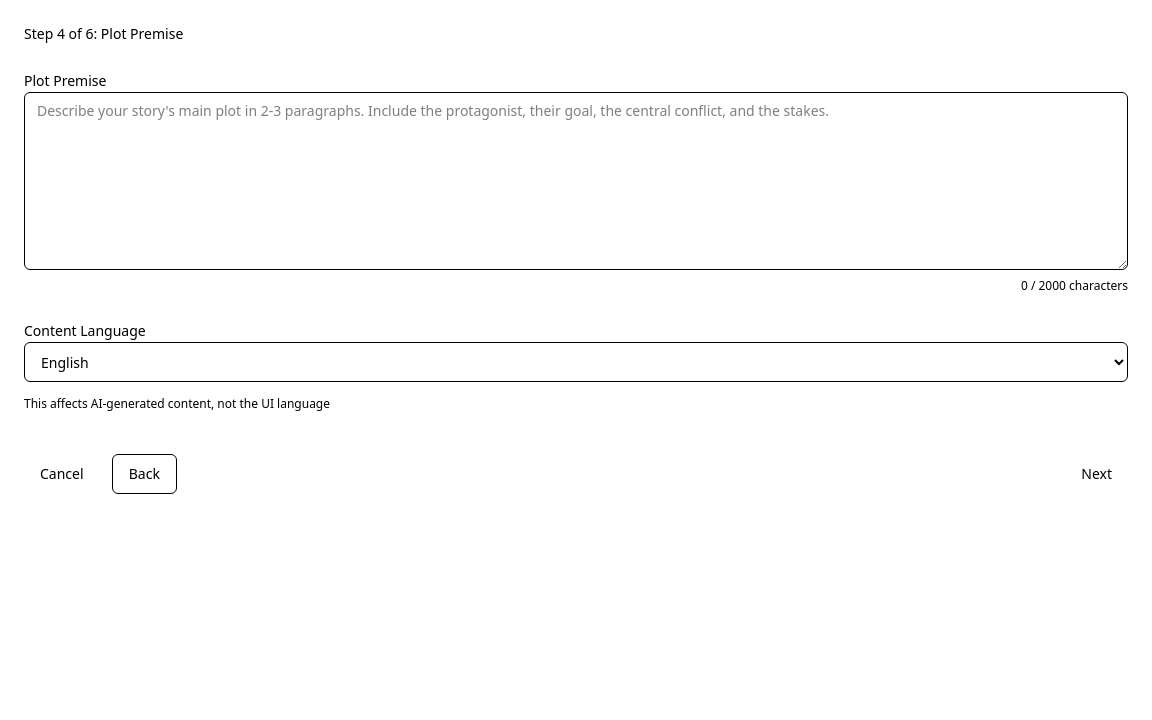
Test: Step 4: Plot Premise › shows inline warning when Next clicked with <100 characters
Type "Short text" into the text box with test id "plot-premise-textarea" at {"x": 576, "y": 181}, box [24,92,1128,270]
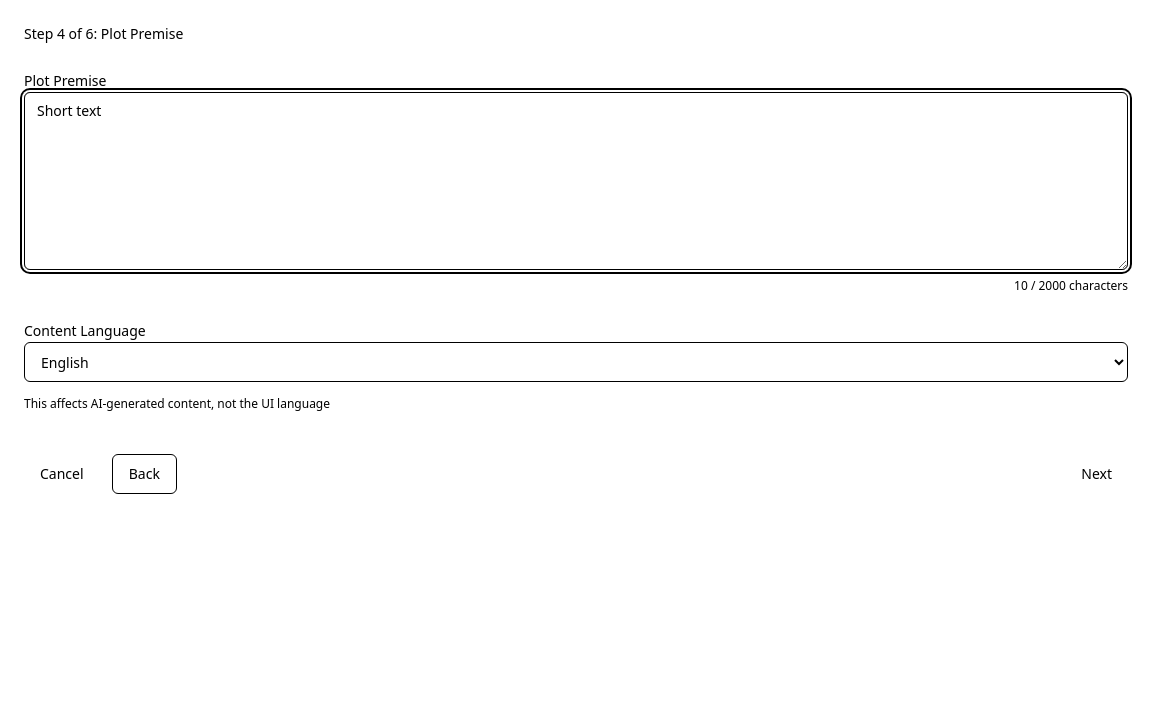
Click the button with test id "next-button" at {"x": 1097, "y": 474}, box [1065,454,1128,494]
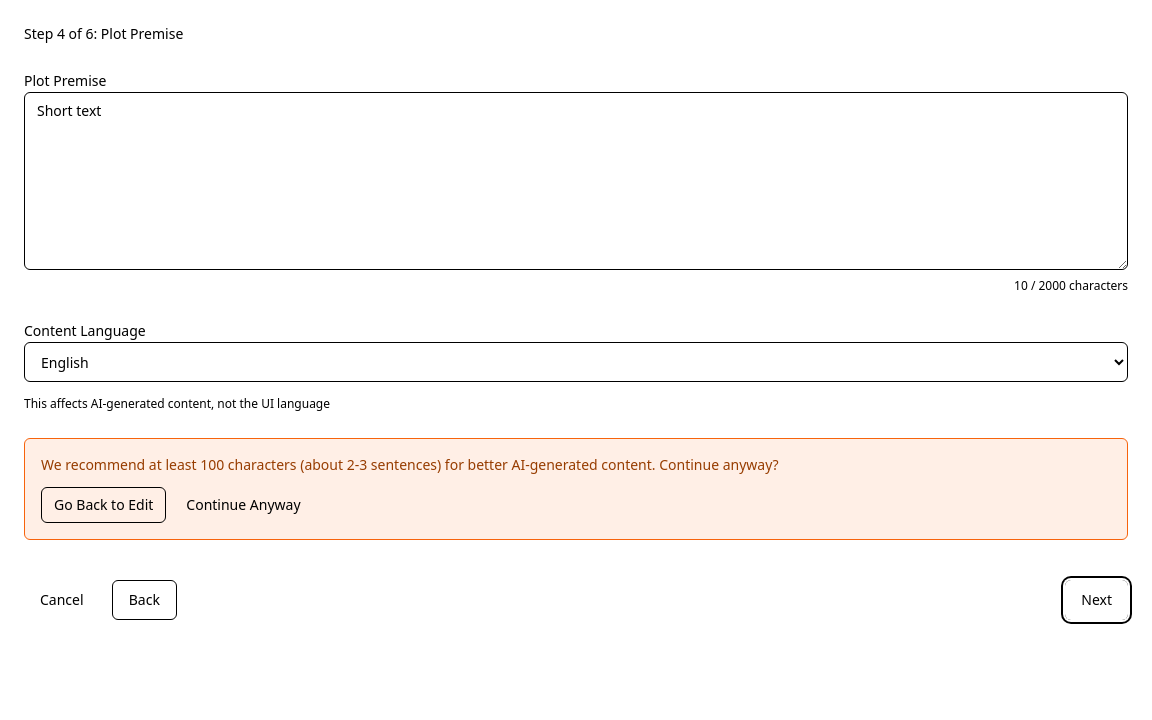
Expected: the message with test id "plot-premise-warning" is shown, [24,438,1128,540]
Expected: the message with test id "plot-premise-warning" shows "We recommend at least 100 characters", [41,455,779,474]
Expected: the message with test id "plot-premise-warning" shows "Continue anyway?", [41,455,779,474]
